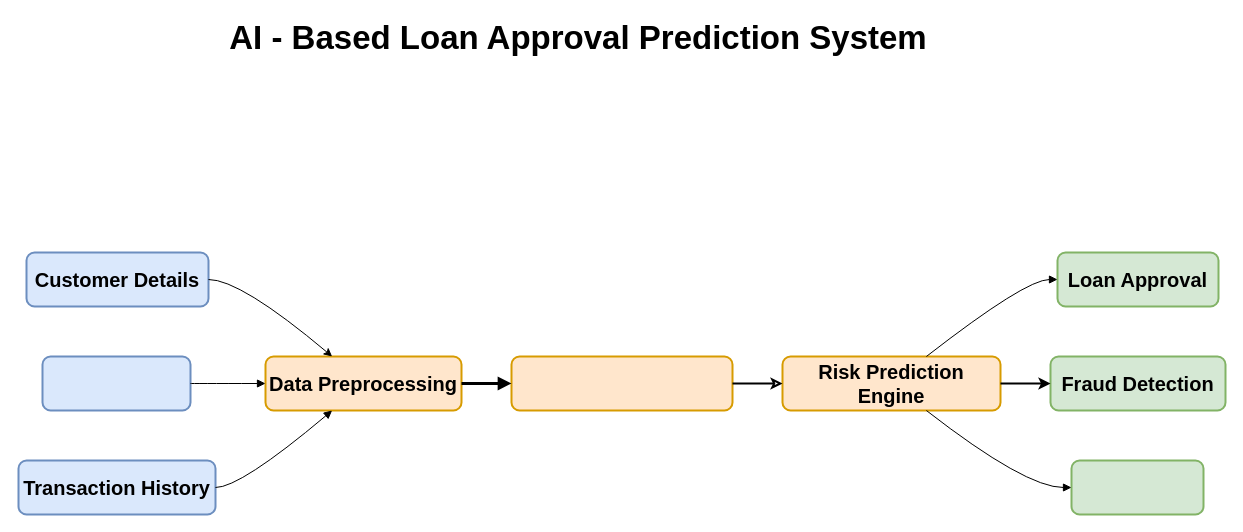
The diagram is 1243 pixels wide and 532 high, and some of its shapes have lost their labels. Here are the shapes that lost their labels. From the top down, the centre of each, then its label:
(116,383): Credit Score
(621,383): AI Classification Model
(1137,487): Risk Score
